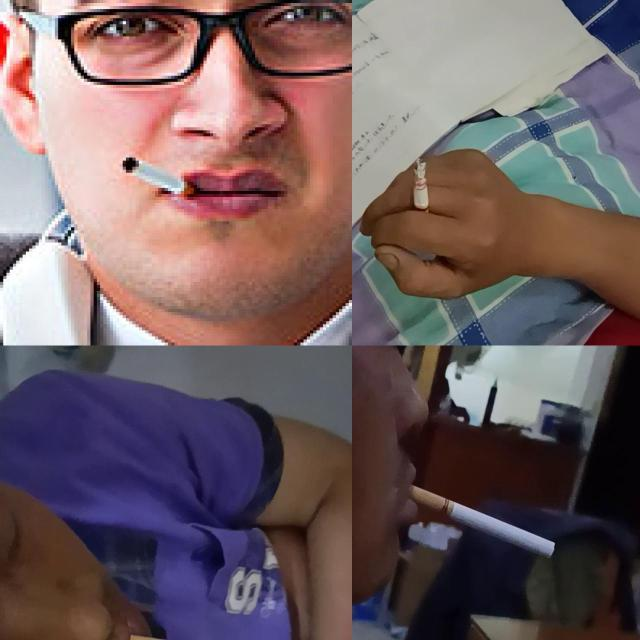smoking: (410, 484, 558, 558), (120, 155, 200, 201), (414, 158, 431, 226)
